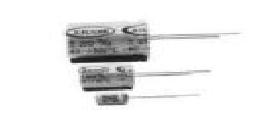Electrolytic-Capacitor: (60, 18, 241, 61), (78, 60, 220, 90), (94, 92, 208, 110)
